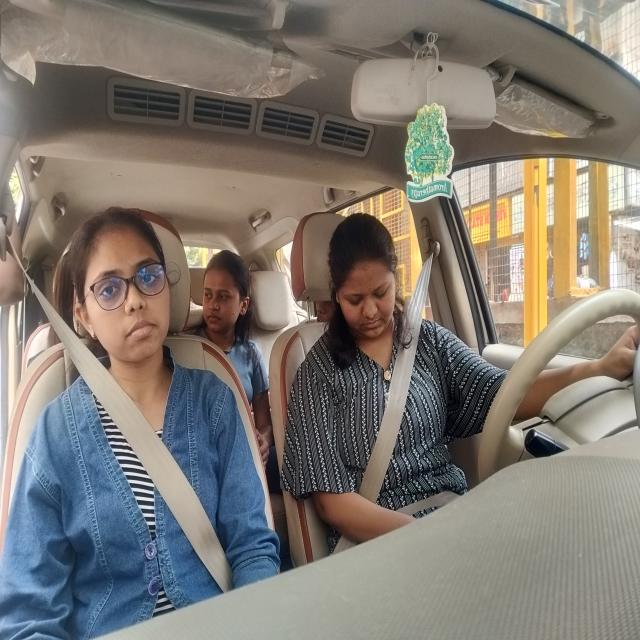drowsy: (328, 210, 400, 343)
person: (73, 207, 177, 362), (199, 248, 252, 338)
